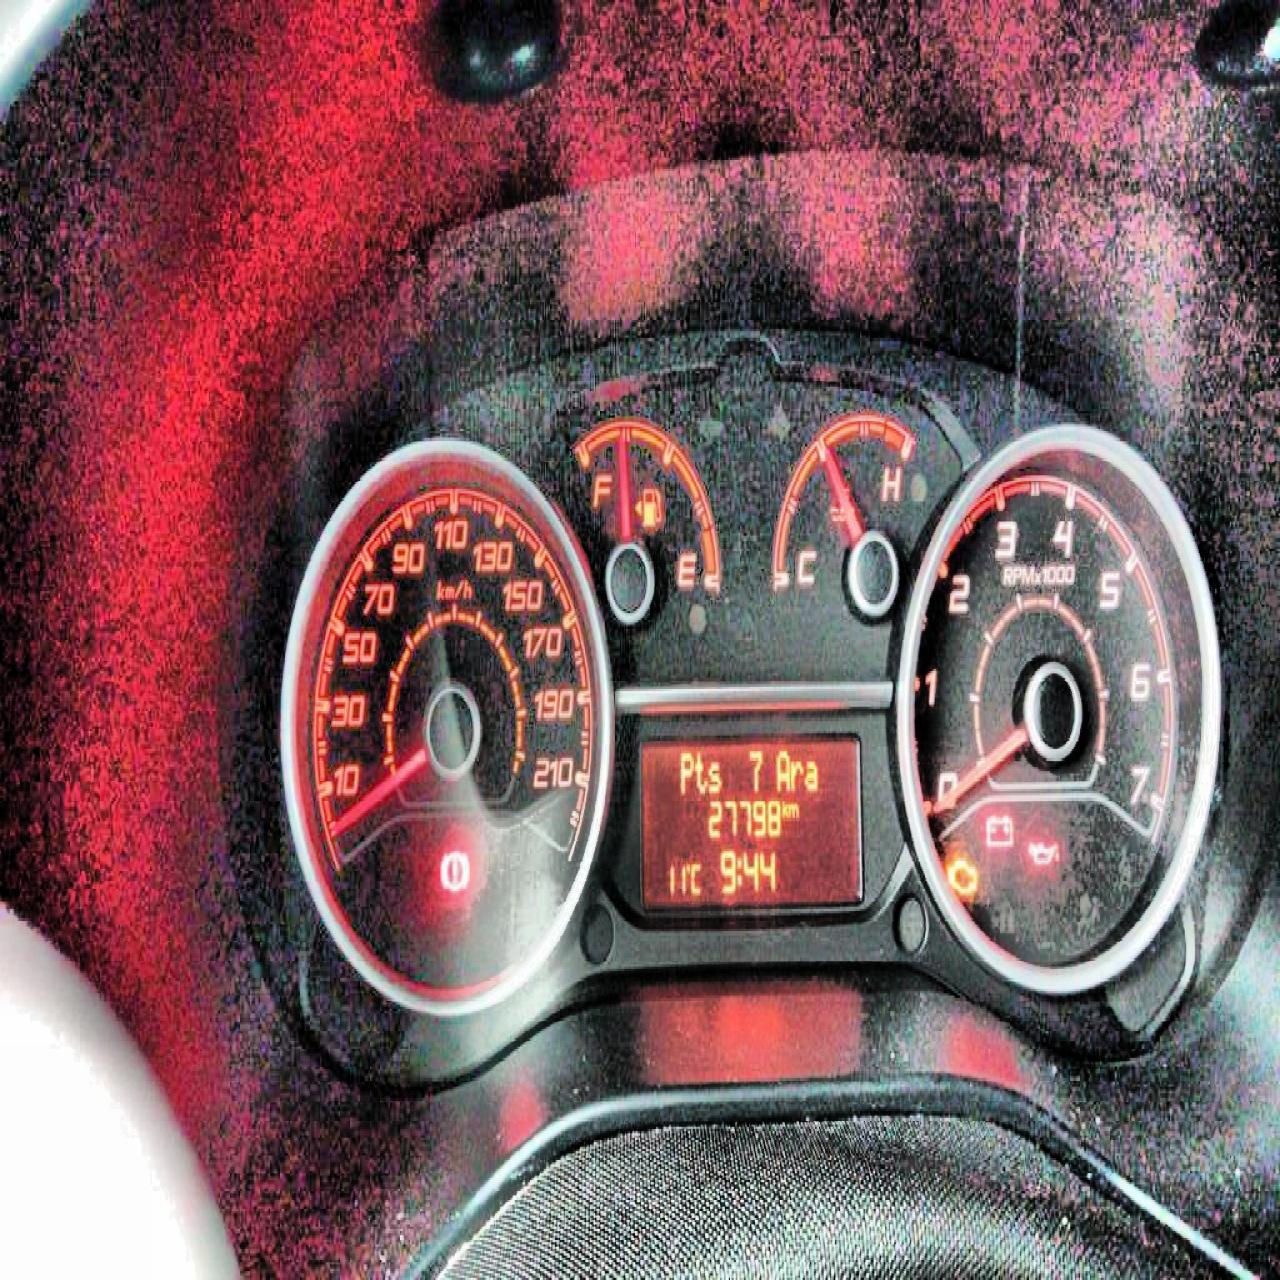1: (667, 862, 675, 896), (679, 862, 685, 894)
2: (706, 796, 722, 838)
4: (759, 847, 776, 891), (742, 849, 758, 893)
7: (746, 747, 762, 791), (722, 796, 736, 836), (738, 796, 752, 836)
8: (766, 798, 780, 836)
9: (717, 847, 735, 893), (751, 796, 765, 836)
X: (678, 746, 692, 796), (692, 749, 706, 793), (774, 747, 788, 791), (706, 758, 722, 793), (802, 758, 818, 791), (788, 758, 802, 791), (690, 860, 701, 893), (780, 793, 788, 818), (788, 800, 798, 818), (735, 854, 741, 884)
odometer: (635, 724, 865, 922)
